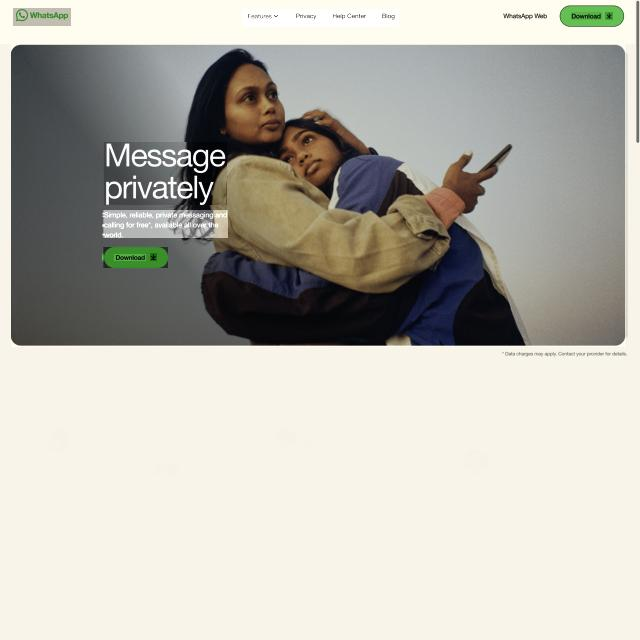CheckBox: (560, 4, 624, 27), (104, 247, 168, 268), (503, 10, 549, 22)
Input field: (104, 210, 228, 238)
alert: (248, 10, 280, 22)
bag: (0, 0, 635, 44)
card: (11, 44, 628, 347)
carousel: (605, 12, 613, 20), (150, 253, 157, 261)
data feed: (571, 12, 602, 20), (114, 254, 146, 261)
date picker: (13, 7, 71, 26)
decoration: (242, 9, 399, 27)
image: (104, 142, 227, 205)
